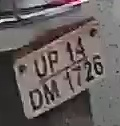1: (65, 71, 75, 93), (66, 41, 75, 62)
2: (82, 61, 93, 83)
4: (74, 36, 86, 56)
6: (91, 54, 104, 75)
7: (71, 66, 84, 86)
D: (28, 88, 44, 112)
M: (41, 80, 63, 102)
P: (48, 48, 59, 73)
U: (31, 54, 50, 78)
